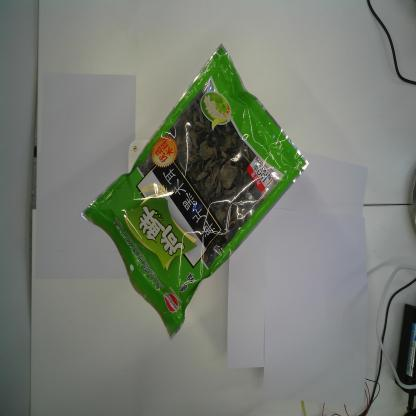Dried Food: (78, 40, 312, 343)
